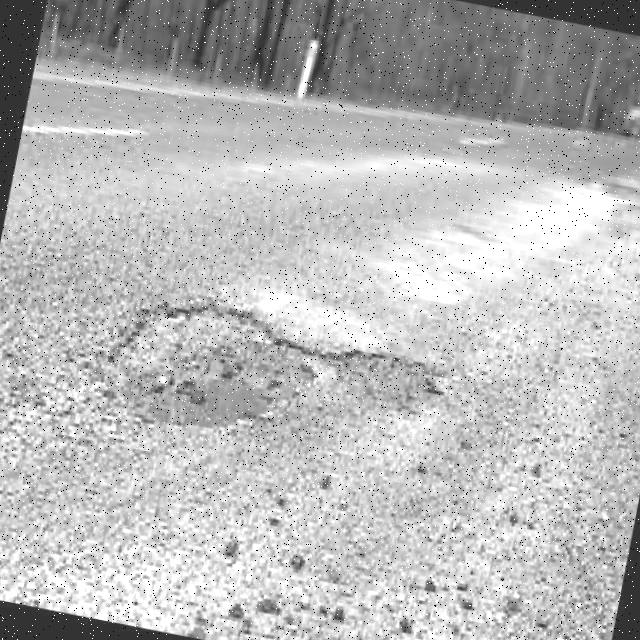pothole: (101, 305, 316, 431)
